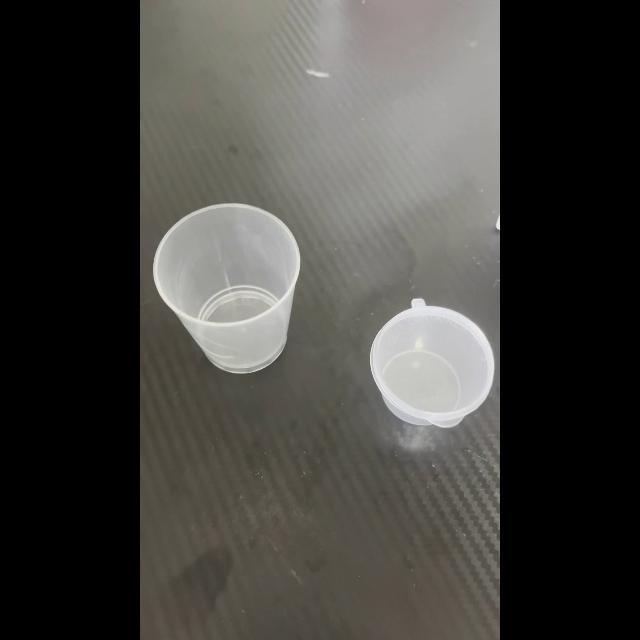clean: (154, 198, 308, 376), (375, 292, 497, 434)
